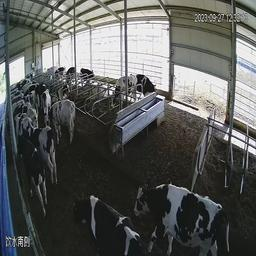cow: (101, 166, 200, 256), (51, 175, 115, 256), (12, 138, 50, 218), (24, 121, 56, 184), (45, 99, 77, 145), (107, 73, 139, 113), (143, 73, 173, 109), (51, 82, 68, 106), (41, 85, 50, 125), (85, 66, 103, 84), (66, 64, 79, 85), (53, 64, 67, 83)
